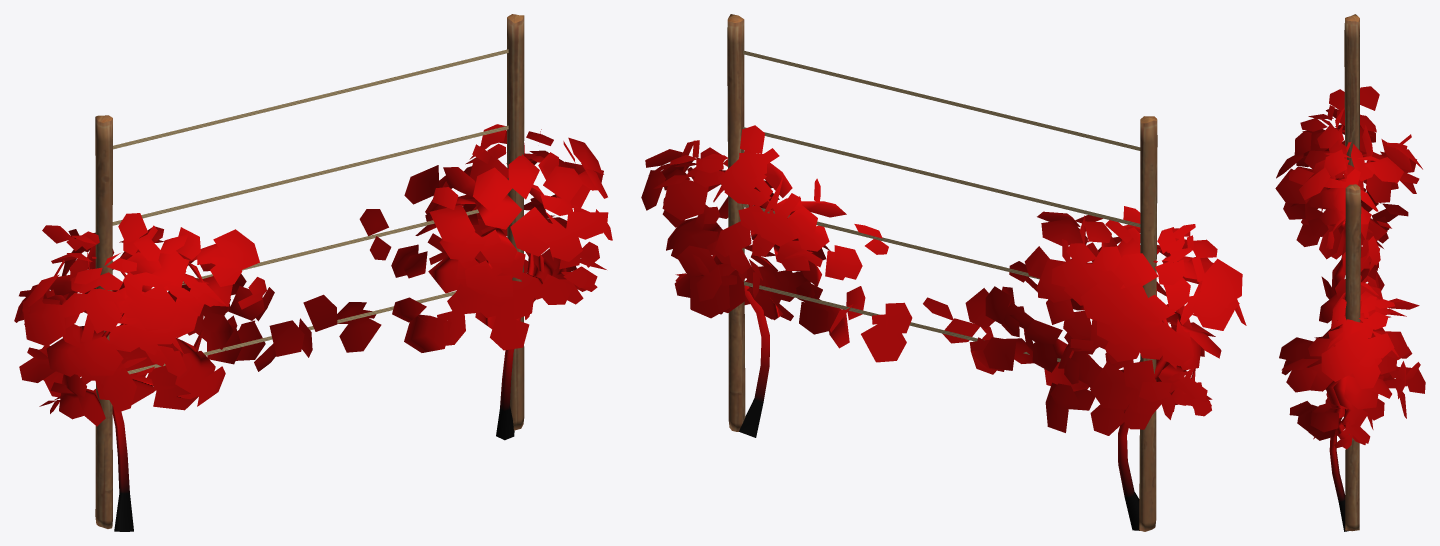
The model's file is SM_Farm_GrapevineMedium_03.fbx.
The picture shows the model from 3 angles, left to right: view 1: azimuth 30°, elevation 25°; view 2: azimuth 150°, elevation 25°; view 3: azimuth 270°, elevation 25°; orthographic projection. The views are drawn at different scales.
Visible parts, largest first — view 1: SM_Farm_GrapevineMedium_03_LOD0; view 2: SM_Farm_GrapevineMedium_03_LOD0; view 3: SM_Farm_GrapevineMedium_03_LOD0.
Boxes of the visible parts, x1,y1,x2,y2 form: SM_Farm_GrapevineMedium_03_LOD0: (14, 14, 612, 531); SM_Farm_GrapevineMedium_03_LOD0: (641, 14, 1246, 531); SM_Farm_GrapevineMedium_03_LOD0: (1275, 14, 1425, 531).
Bounding box in the file's own units: 215 × 146 × 56.51.
